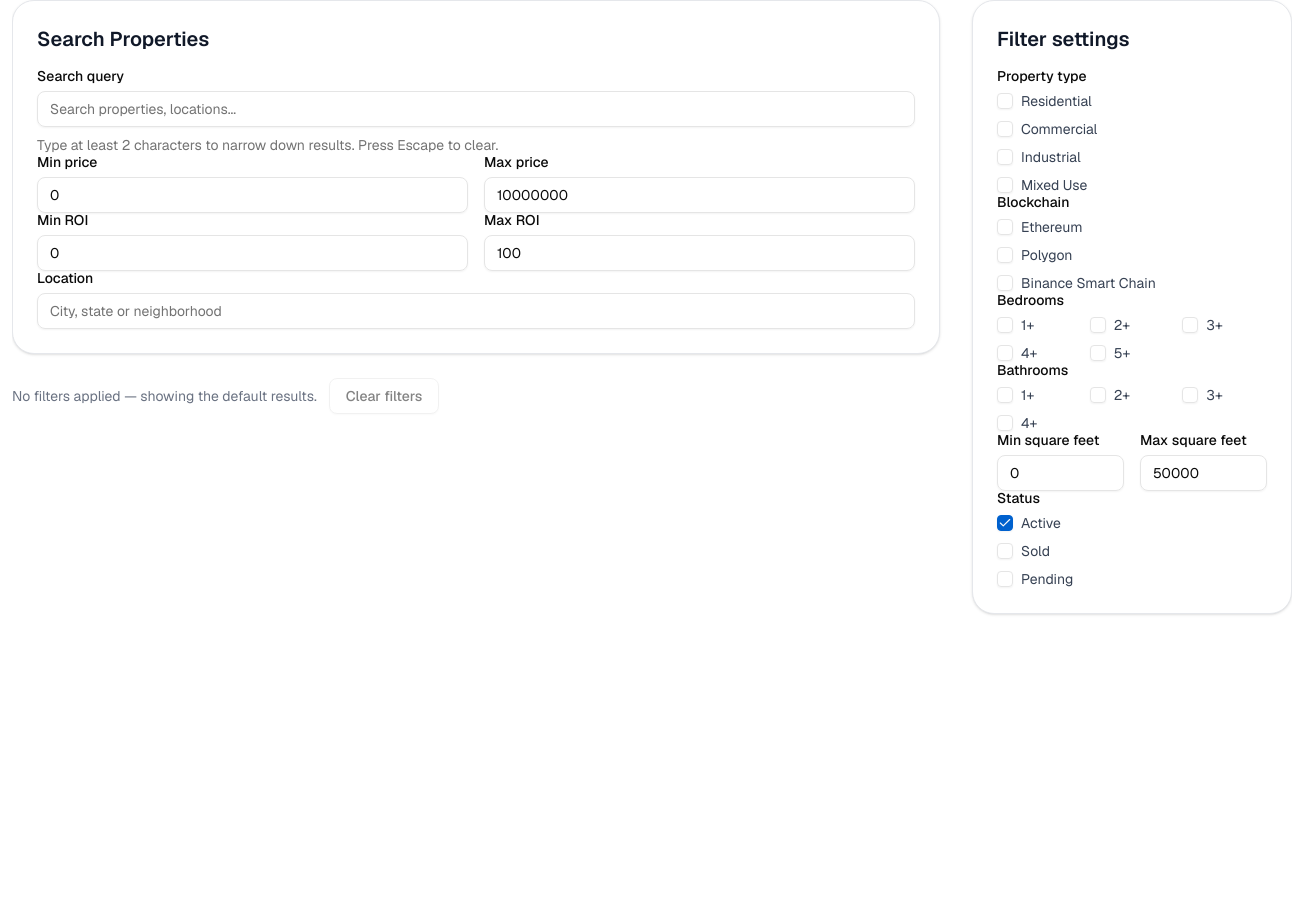
Test: SearchFilterForm emitting › shows field validation errors for invalid numeric values
Replace the text in the number field labelled "Min ROI" with "101": (252, 253) [37,235,468,271]
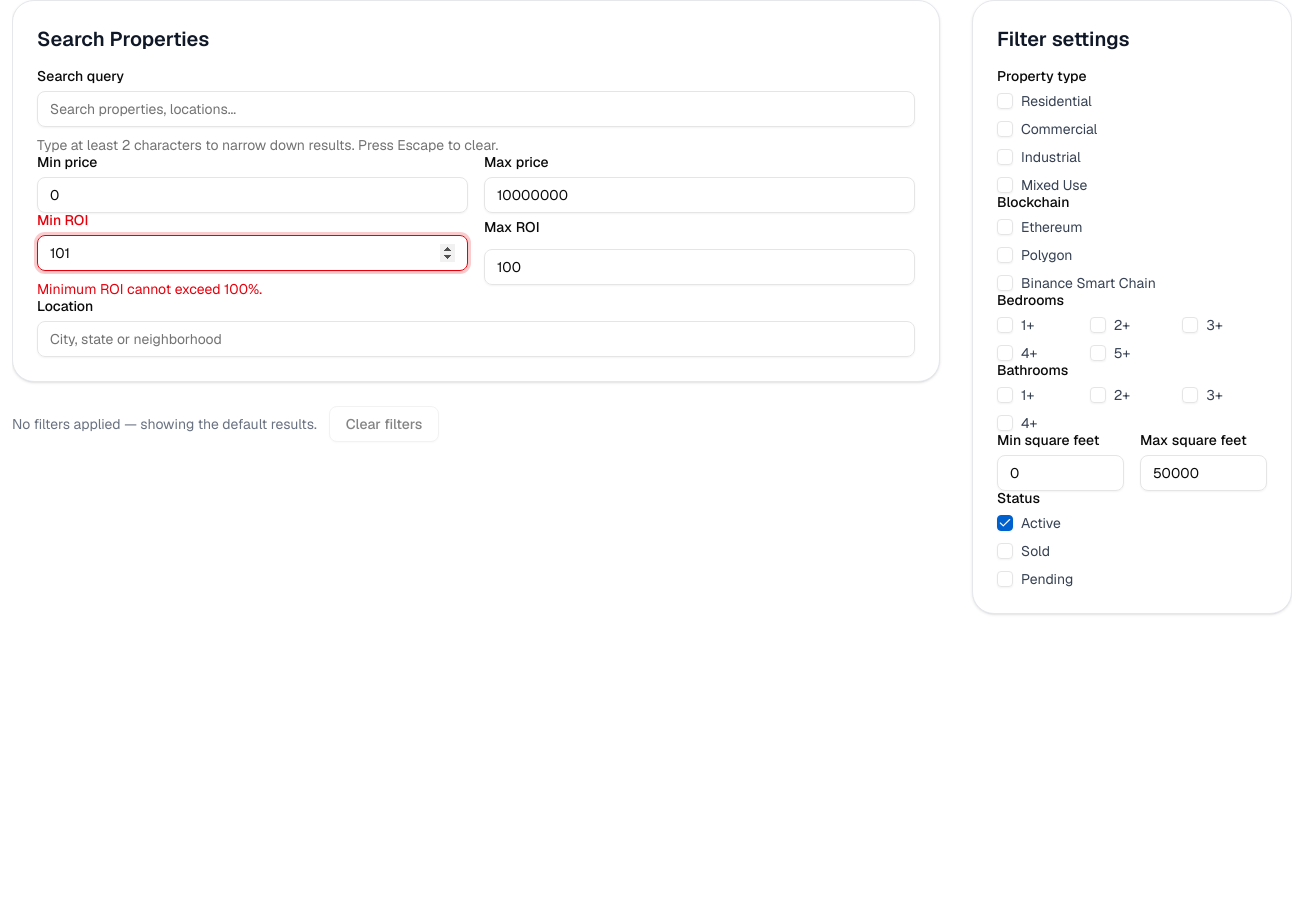
Check: the text "Minimum ROI cannot exceed 100%." is shown, box [37,280,262,298]
